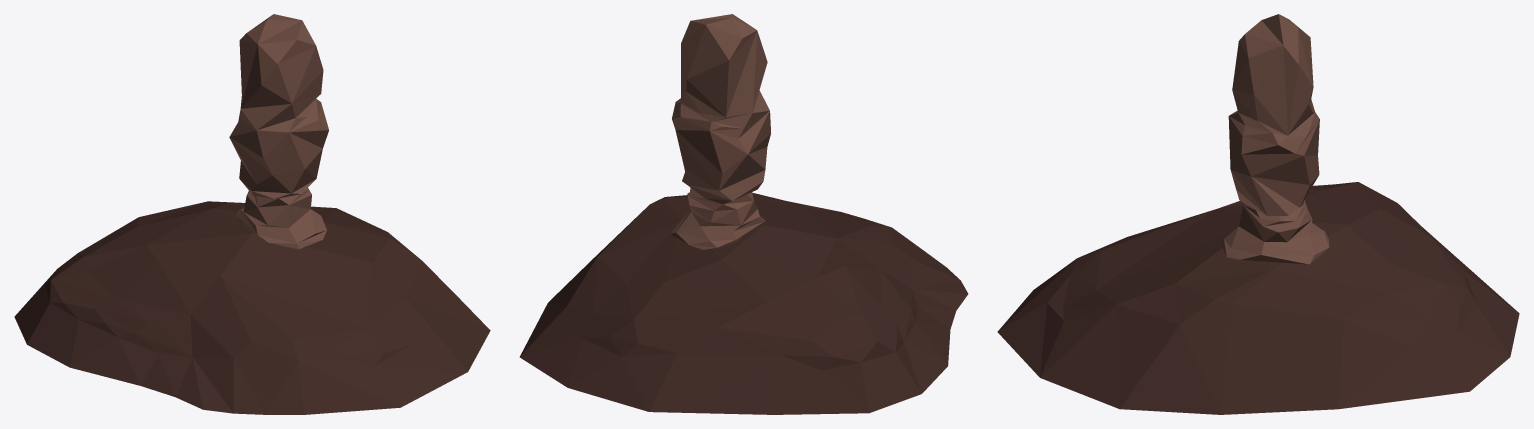
The model's file is Brown_rock_007.fbx.
3 renders of one model, left to right at view 1: azimuth 30°, elevation 25°; view 2: azimuth 150°, elevation 25°; view 3: azimuth 270°, elevation 25°, orthographic. The views are drawn at different scales.
Parts seen in each view (by area): view 1: Brown_rock_007; view 2: Brown_rock_007; view 3: Brown_rock_007.
Boxes of the visible parts, x1,y1,x2,y2 form: Brown_rock_007: [14, 14, 490, 414]; Brown_rock_007: [519, 14, 968, 414]; Brown_rock_007: [997, 14, 1519, 414].
Bounding box in the file's own units: 1021 × 1146 × 765.
